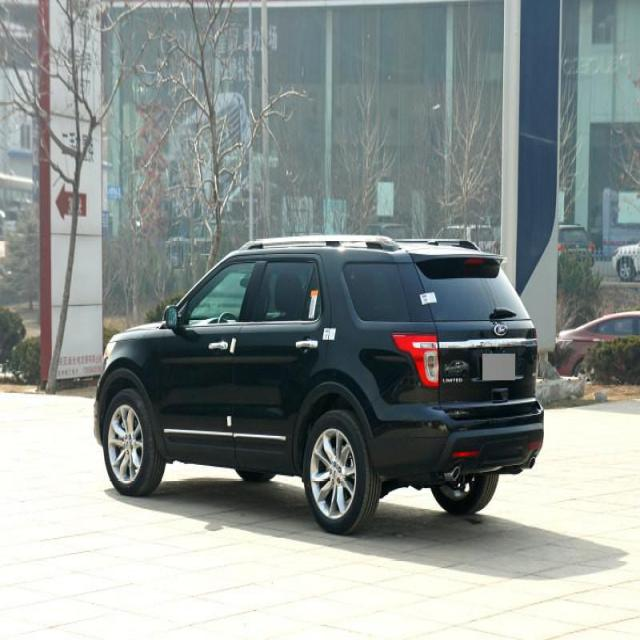back_glass: (417, 255, 531, 322)
back_right_side_light: (392, 330, 440, 390)
door: (230, 253, 328, 464)
front_left_side_door: (159, 248, 261, 470)
front_left_side_light: (101, 338, 118, 366)
front_left_side_mirror: (162, 300, 181, 332)
rear_bumper: (363, 368, 545, 478)
wheel: (305, 408, 373, 535), (103, 390, 156, 492), (429, 471, 496, 514)
